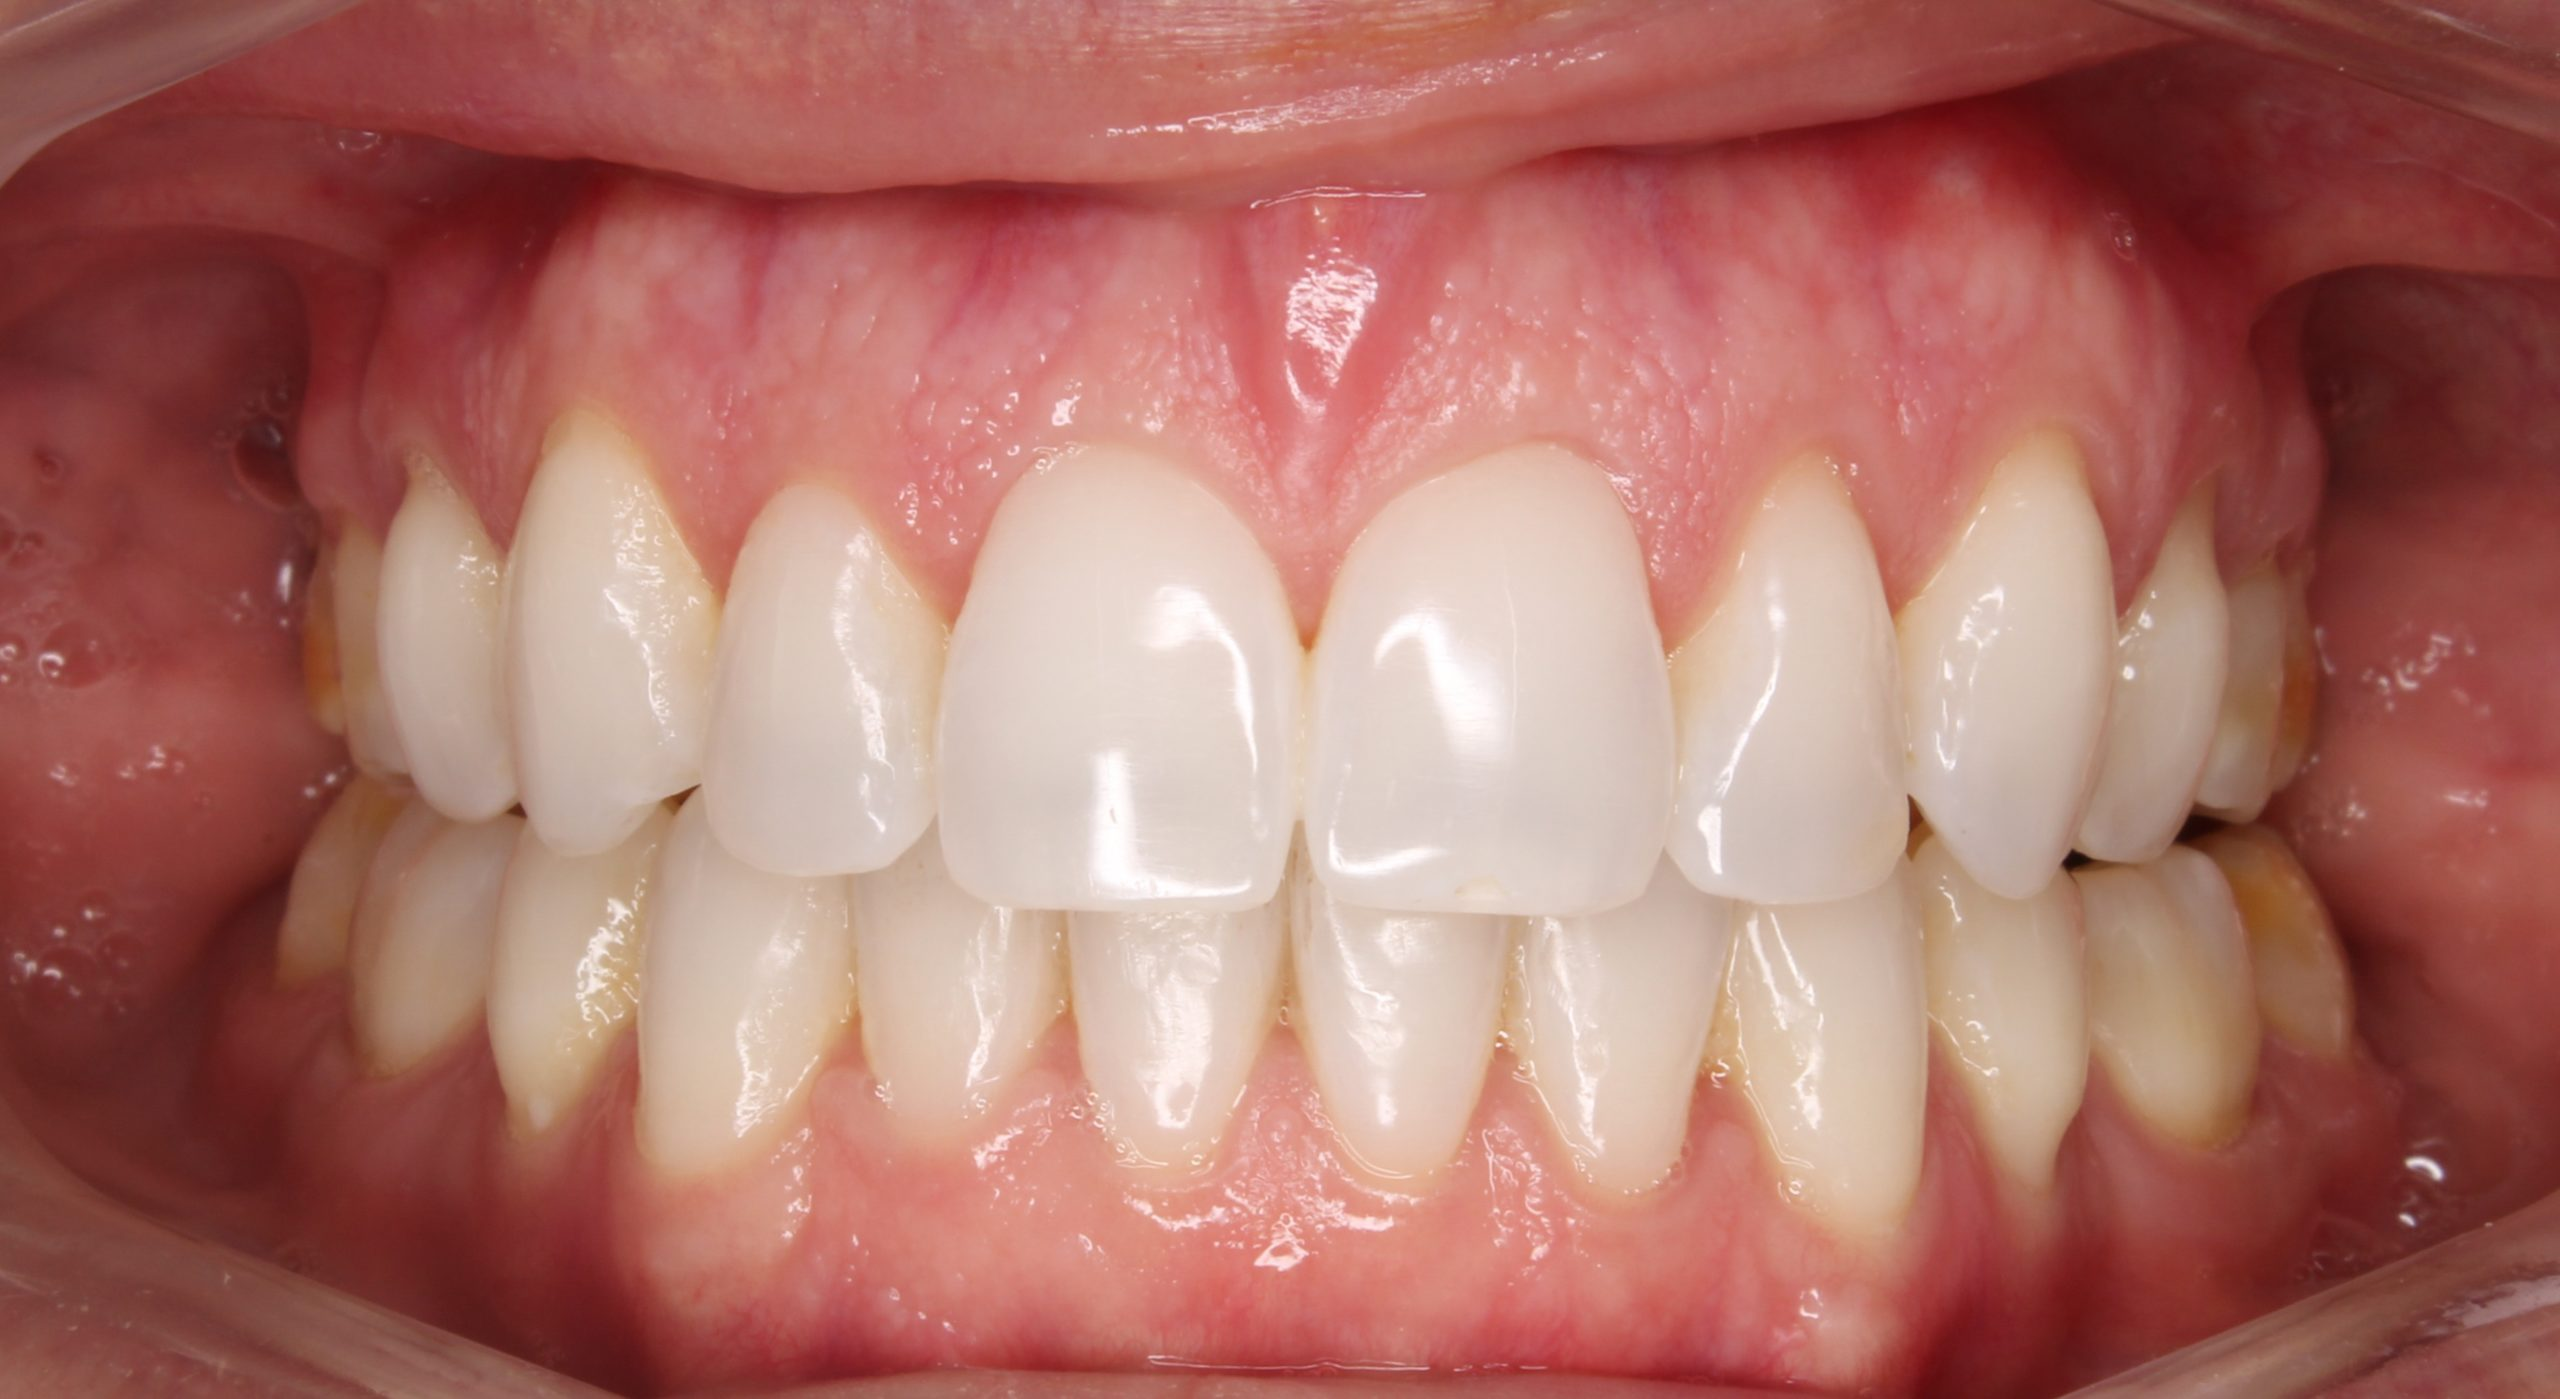LL1BC_healthy: (1931, 894, 2086, 1177)
LL1M_decay: (2231, 841, 2350, 1068)
LL2BC_healthy: (2091, 863, 2260, 1154)
LLCI_healthy: (1287, 911, 1514, 1175)
LLC_healthy: (1726, 905, 1931, 1211)
LLLI_healthy: (1514, 905, 1738, 1194)
LR1BC_healthy: (482, 853, 643, 1134)
LR1M_healthy: (281, 818, 355, 987)
LR2BC_healthy: (348, 824, 493, 1075)
LRCI_healthy: (1070, 910, 1282, 1170)
LRC_healthy: (637, 872, 854, 1177)
LRLI_healthy: (860, 898, 1058, 1139)
UL1BC_healthy: (2090, 505, 2226, 860)
UL1M_decay: (2284, 593, 2310, 794)
UL2BC_healthy: (2214, 581, 2283, 818)
ULCI_healthy: (1302, 448, 1673, 913)
ULC_healthy: (1909, 455, 2116, 899)
ULLI_healthy: (1669, 453, 1909, 903)
UR1BC_healthy: (381, 472, 512, 818)
UR1M_decay: (296, 538, 343, 724)
UR2BC_healthy: (338, 529, 389, 772)
URCI_healthy: (937, 455, 1302, 906)
URC_healthy: (512, 413, 706, 855)
URLI_healthy: (705, 482, 941, 875)
